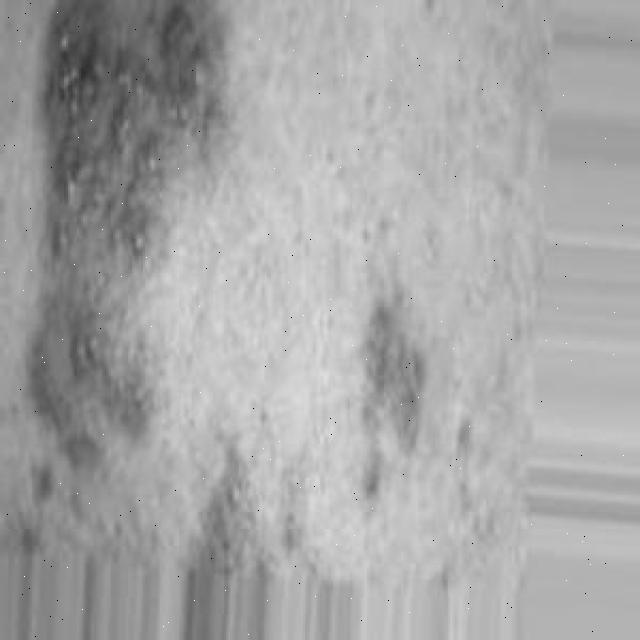Shingles: (12, 0, 229, 497), (349, 296, 434, 496), (181, 438, 307, 568)
